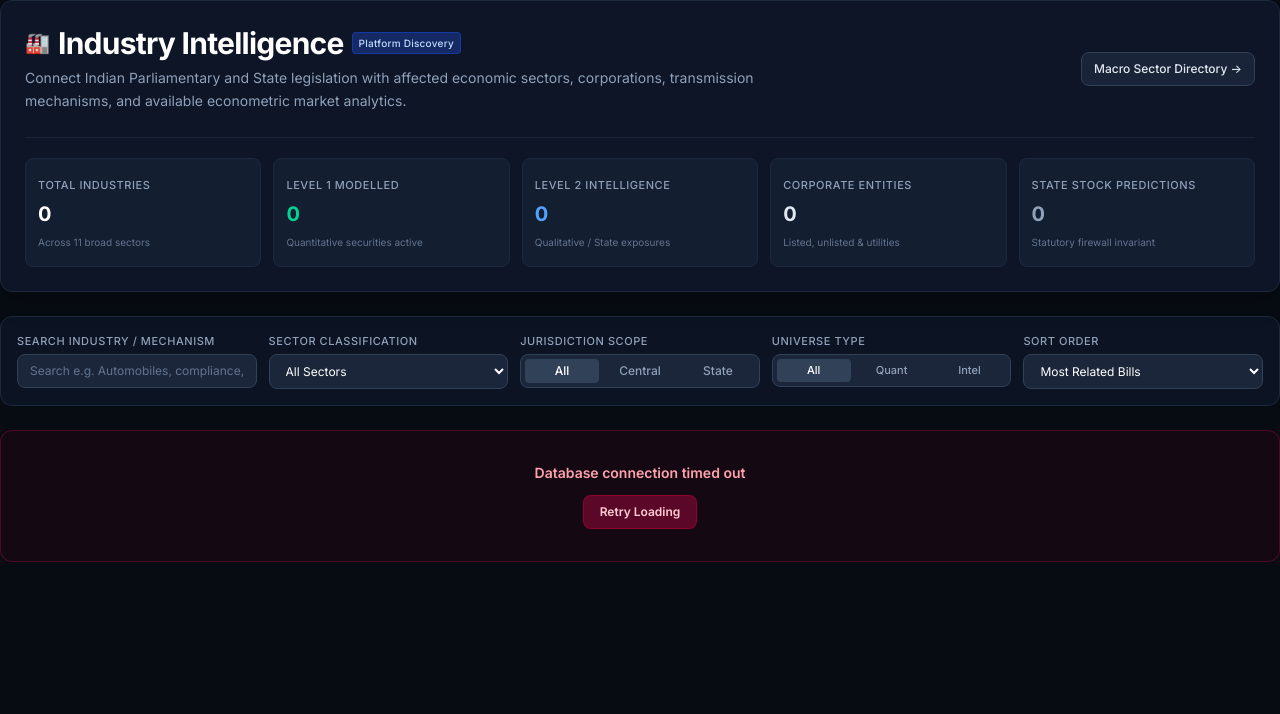
Test: IndustriesContent (Industry Discovery Page) › displays error state with retry button on API failure
Expected: the text "Database connection timed out" is shown, [535,464,746,481]
Click the button "Retry Loading". click: (640, 512)
box: [583,495,697,529]
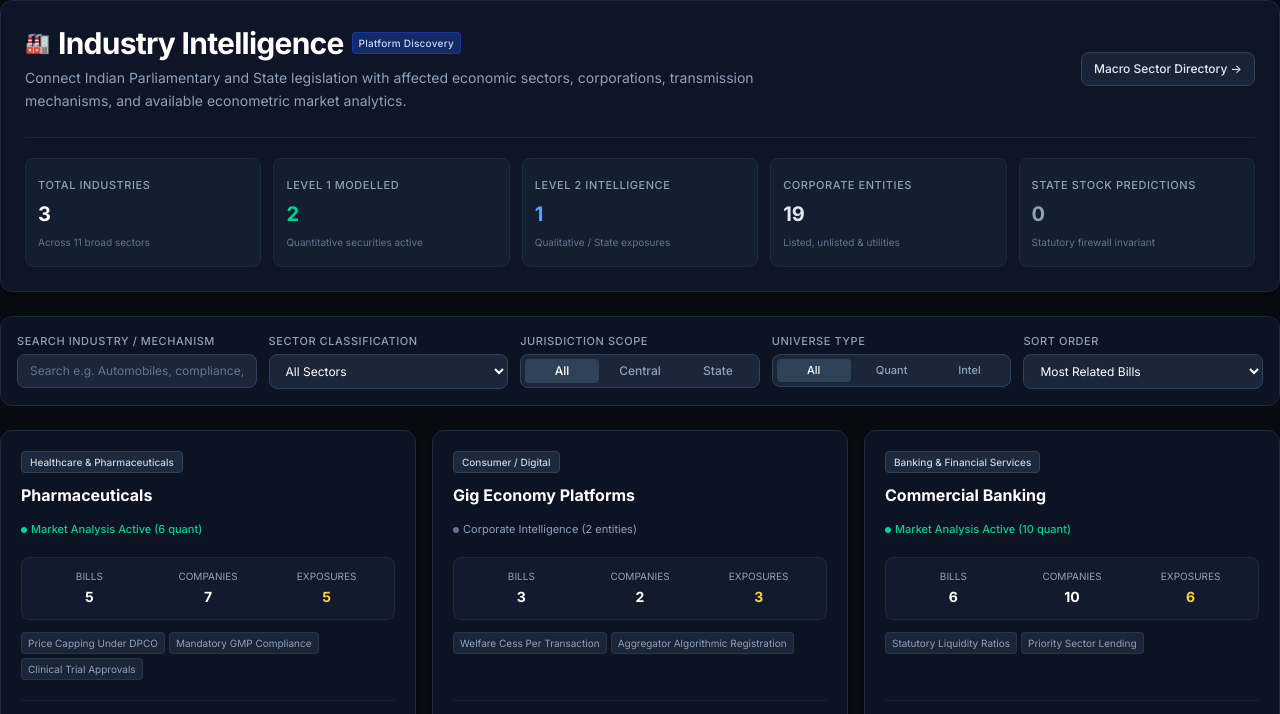
Expected: the link "Pharmaceuticals" is shown, [21,485,152,505]
